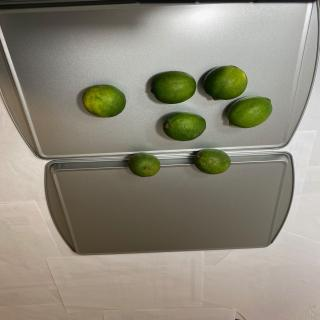Apple: (162, 112, 206, 141), (193, 148, 230, 174), (128, 152, 160, 177)
Lemon: (150, 71, 197, 104), (203, 66, 248, 100), (82, 84, 126, 118), (227, 95, 272, 128)
